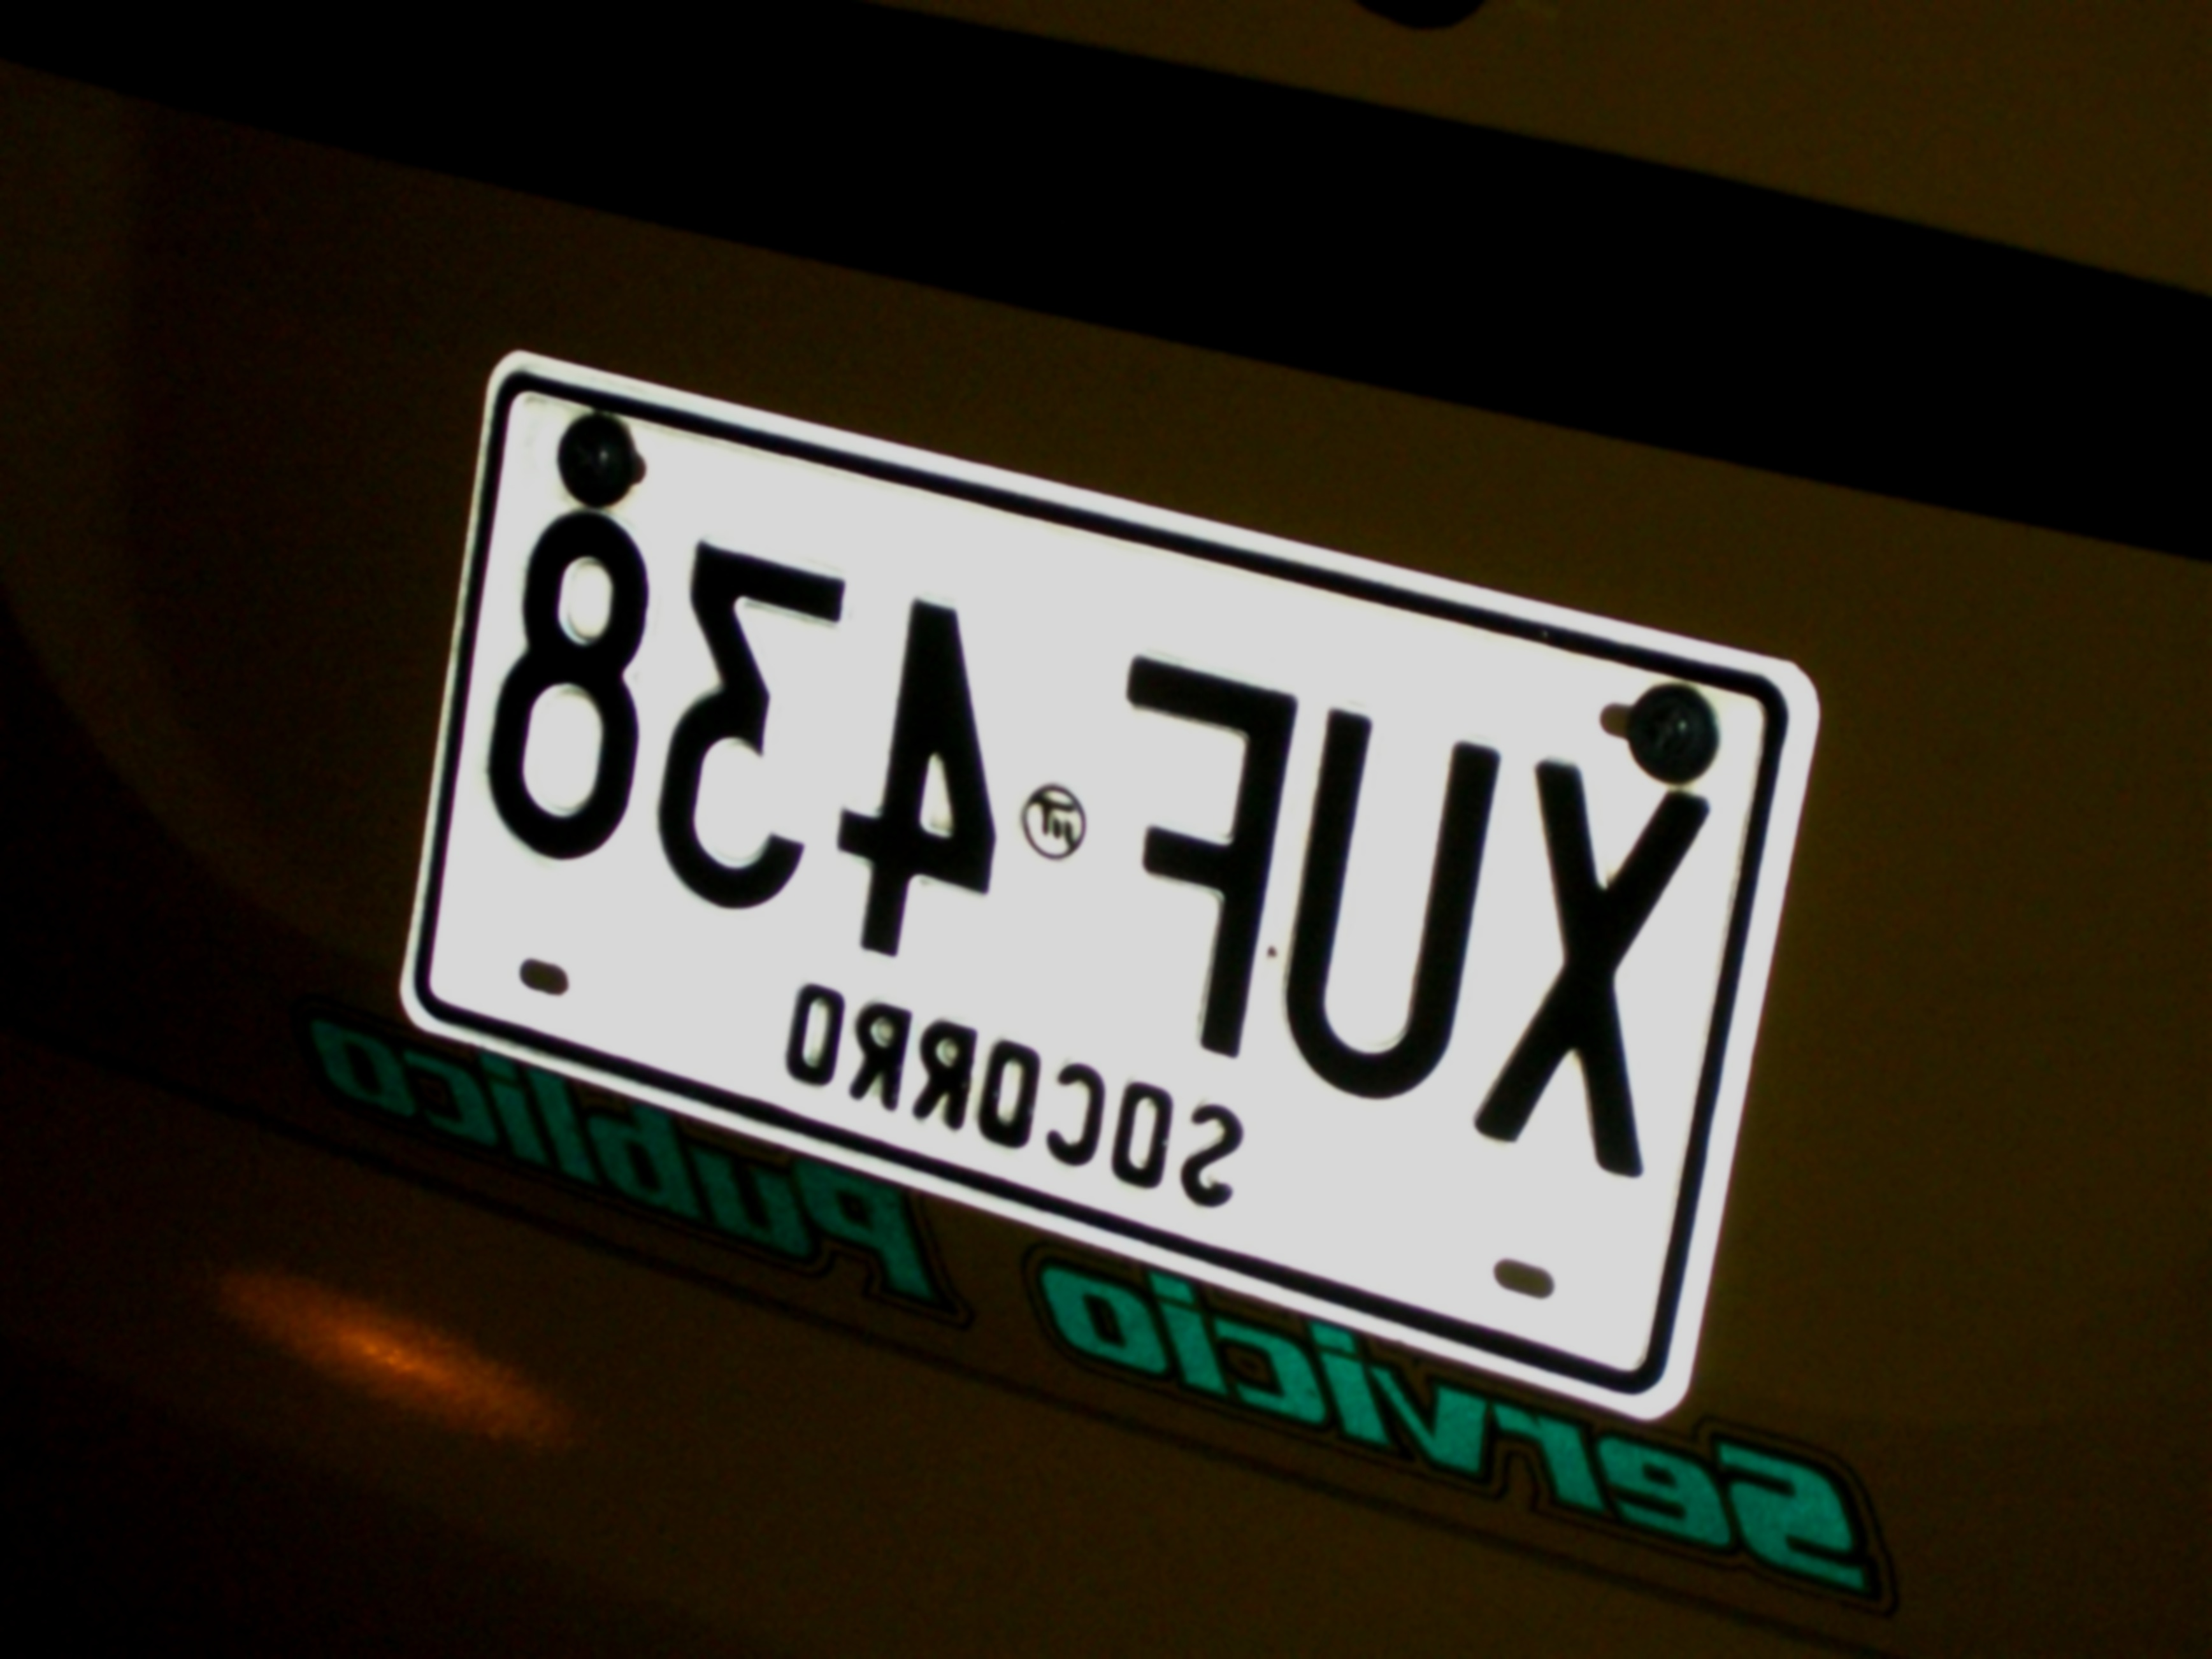placas: (392, 337, 1830, 1423)
